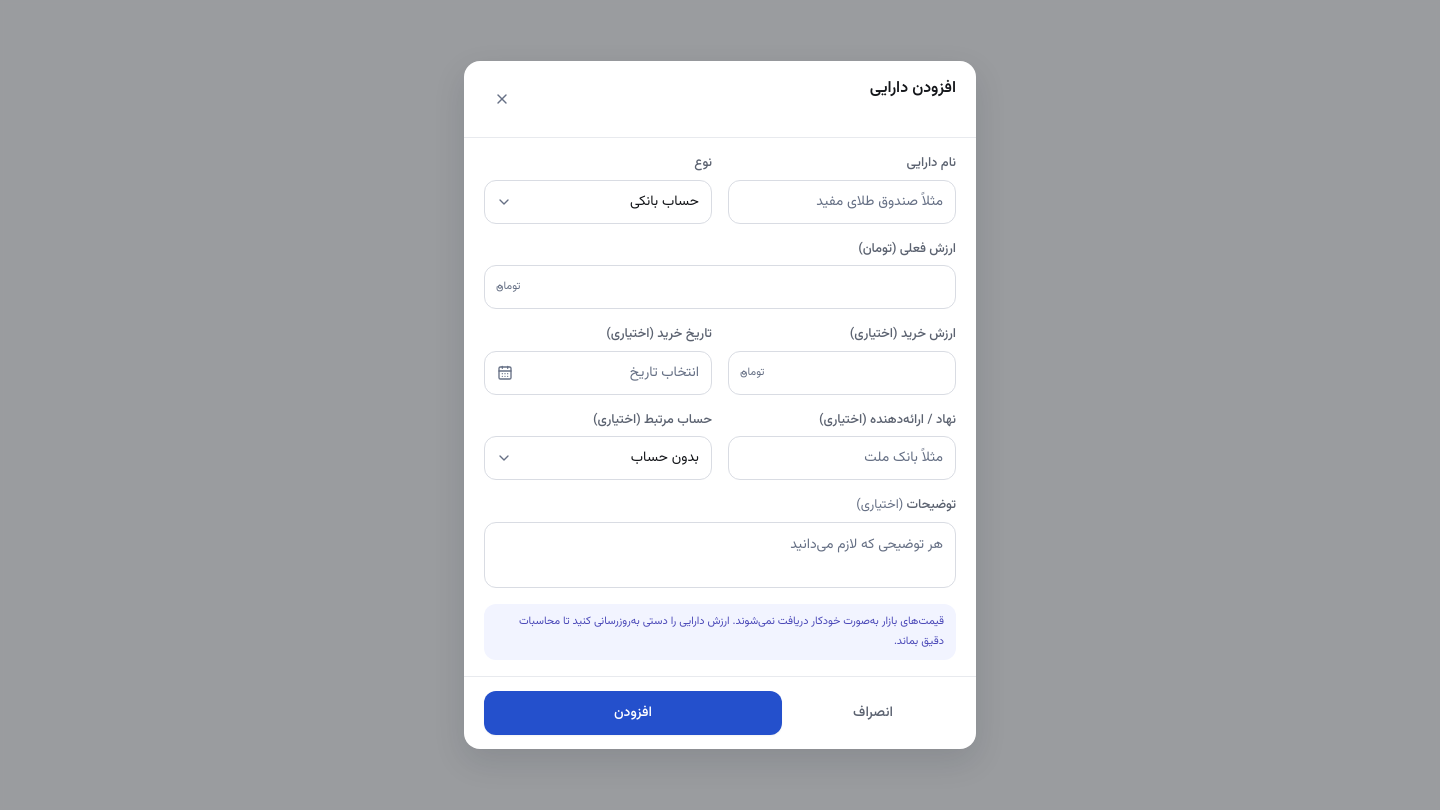
Test: AssetForm › requires a name and a current value
This screenshot has width=1440, height=810.
Click the button "افزودن".
click(633, 713)  # box x1=484 y1=691 x2=782 y2=735
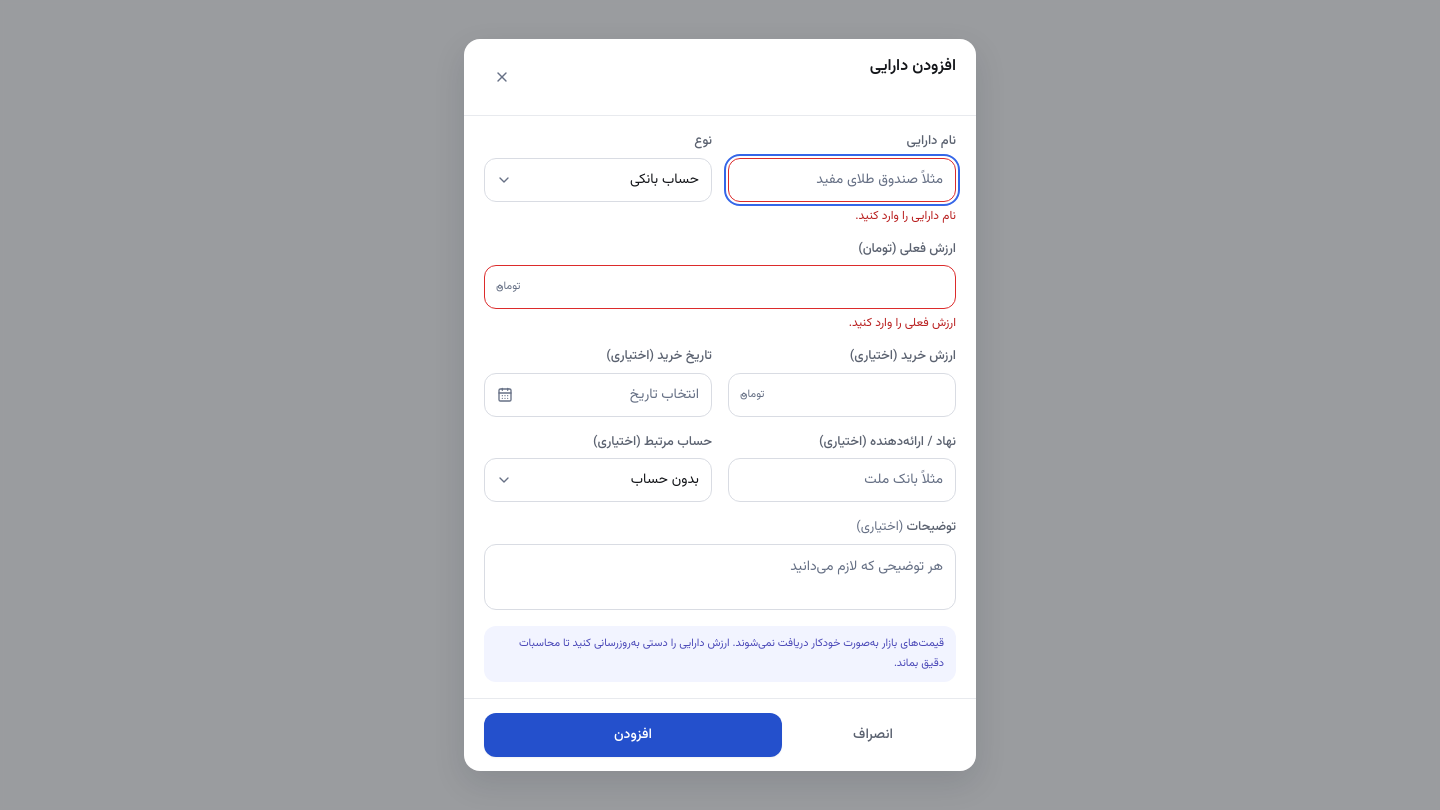
Now the text "نام دارایی را وارد کنید." is shown, box x1=855 y1=207 x2=956 y2=225
Now the text "ارزش فعلی را وارد کنید." is shown, box x1=849 y1=314 x2=956 y2=332
